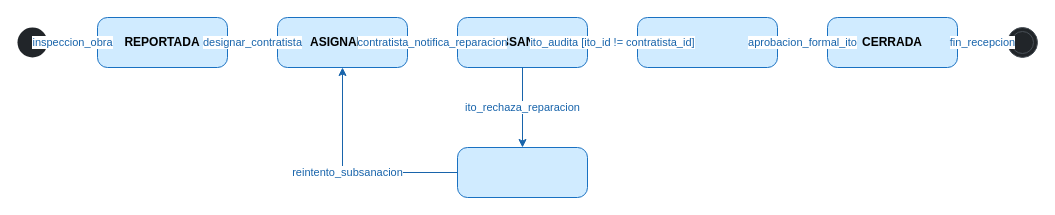
Some shapes in this 1055 by 215 pixel diagram are drawn without their labels. Here are the shapes that lost their labels. From the top down, the centre of each, then its label:
At (x=707, y=42): "VERIFICADA_ITO".
At (x=522, y=172): "REABIERTA".
